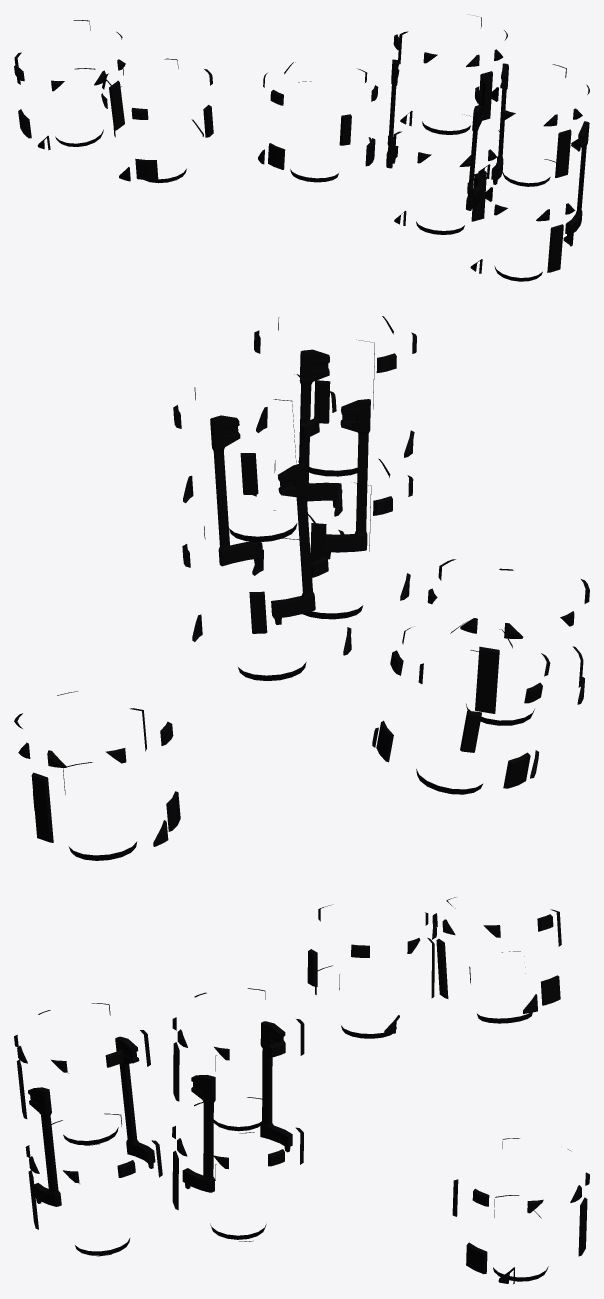
File: env_container_01_07.glb
The picture shows the model from 3 angles, top to bottom: view 1: azimuth 30°, elevation 25°; view 2: azimuth 150°, elevation 25°; view 3: azimuth 270°, elevation 25°; orthographic projection. The views are drawn at different scales.
Parts seen in each view (by area): view 1: env_container_01_02_LOD0 (×4), env_container_01_01_LOD0 (×2), env_container_01_connector (2) (×2), env_container_01_03_LOD0, env_container_01_connector (1) (×2); view 2: env_container_01_02_LOD0 (×4), env_container_01_01_LOD0 (×2), env_container_01_connector (1) (×2), env_container_01_connector (2) (×2), env_container_01_03_LOD0; view 3: env_container_01_02_LOD0 (×4), env_container_01_01_LOD0 (×2), env_container_01_connector (2) (×2), env_container_01_connector (1) (×2), env_container_01_03_LOD0.
Boxes of the visible parts, left/top/right/bottom form: env_container_01_02_LOD0 (×4): left=387, top=15, right=589, bottom=281; env_container_01_01_LOD0 (×2): left=14, top=20, right=378, bottom=182; env_container_01_connector (2) (×2): left=491, top=63, right=589, bottom=238; env_container_01_03_LOD0: left=101, top=58, right=213, bottom=183; env_container_01_connector (1) (×2): left=386, top=59, right=484, bottom=210; env_container_01_02_LOD0 (×4): left=173, top=316, right=416, bottom=680; env_container_01_01_LOD0 (×2): left=14, top=621, right=550, bottom=860; env_container_01_connector (1) (×2): left=271, top=399, right=370, bottom=624; env_container_01_connector (2) (×2): left=210, top=349, right=341, bottom=566; env_container_01_03_LOD0: left=418, top=559, right=589, bottom=725; env_container_01_02_LOD0 (×4): left=14, top=988, right=304, bottom=1256; env_container_01_01_LOD0 (×2): left=432, top=897, right=589, bottom=1284; env_container_01_connector (2) (×2): left=28, top=1075, right=215, bottom=1206; env_container_01_connector (1) (×2): left=115, top=1021, right=292, bottom=1168; env_container_01_03_LOD0: left=307, top=904, right=436, bottom=1038.
Size of what is drawn, in the model's own units: 5.75 by 3.33 by 6.6.
2 materials, 2 textured.
